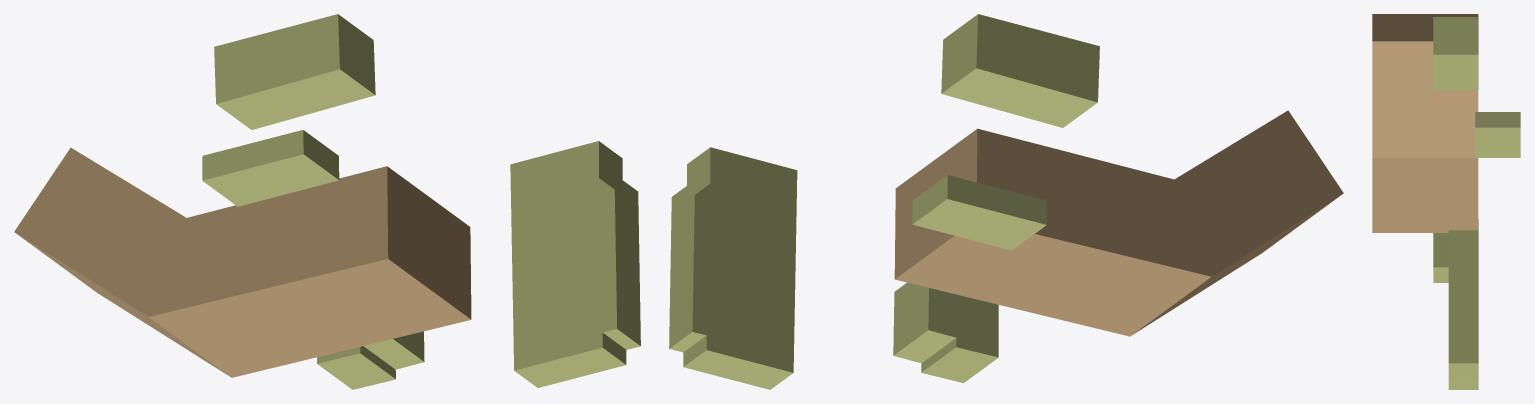
3 renders of one model, left to right at view 1: azimuth 30°, elevation 25°; view 2: azimuth 150°, elevation 25°; view 3: azimuth 270°, elevation 25°, orthographic. The views are drawn at different scales.
Parts seen in each view (by area): view 1: 0_0_1_1_3_2_1_3; view 2: 0_0_1_1_3_2_1_3; view 3: 0_0_1_1_3_2_1_3.
Boxes of the visible parts, left/top/right/bottom form: 0_0_1_1_3_2_1_3: left=14, top=14, right=640, bottom=389; 0_0_1_1_3_2_1_3: left=669, top=14, right=1343, bottom=389; 0_0_1_1_3_2_1_3: left=1372, top=14, right=1520, bottom=389.
Bounding box in the file's own units: 87.91 × 55.64 × 29.4.
